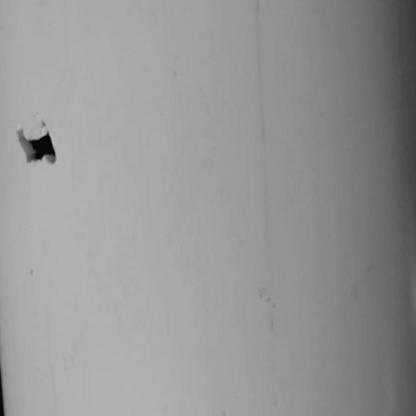kongdong: (11, 117, 67, 169)
